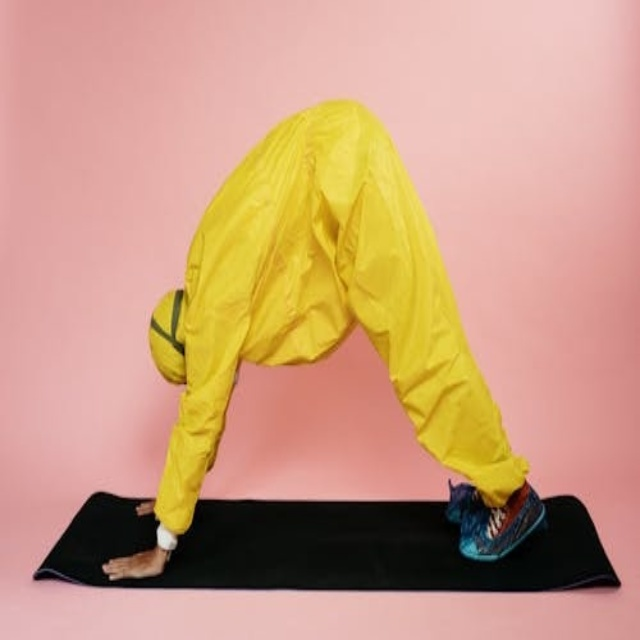Sin_guantes: (103, 545, 166, 582), (135, 500, 155, 516)
